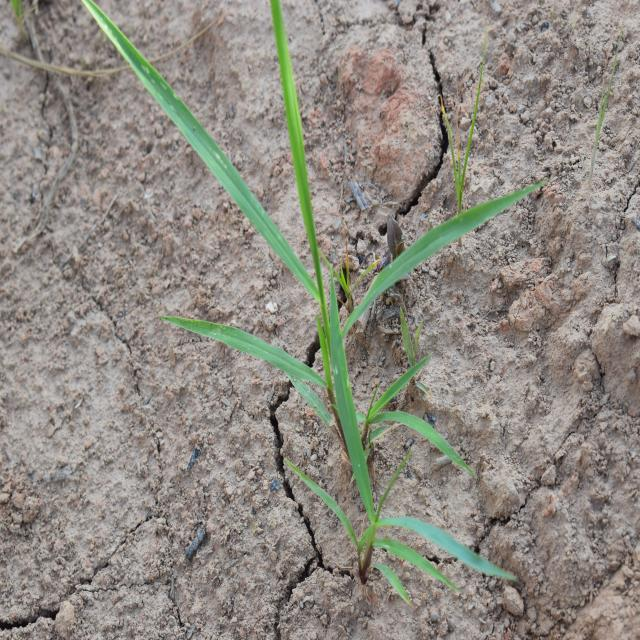green_foxtail: (135, 17, 461, 458), (322, 378, 522, 608)
